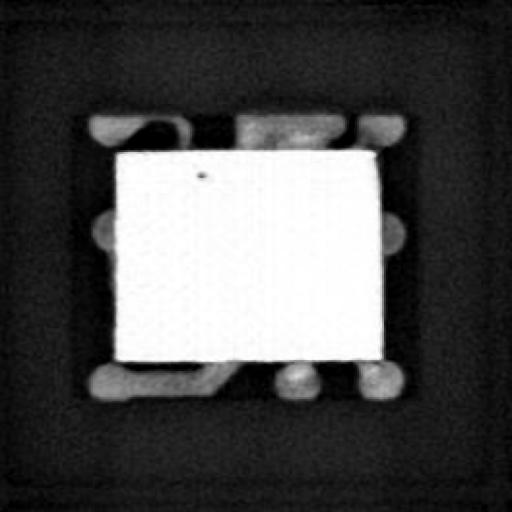DIE_INK: (190, 167, 208, 180)
